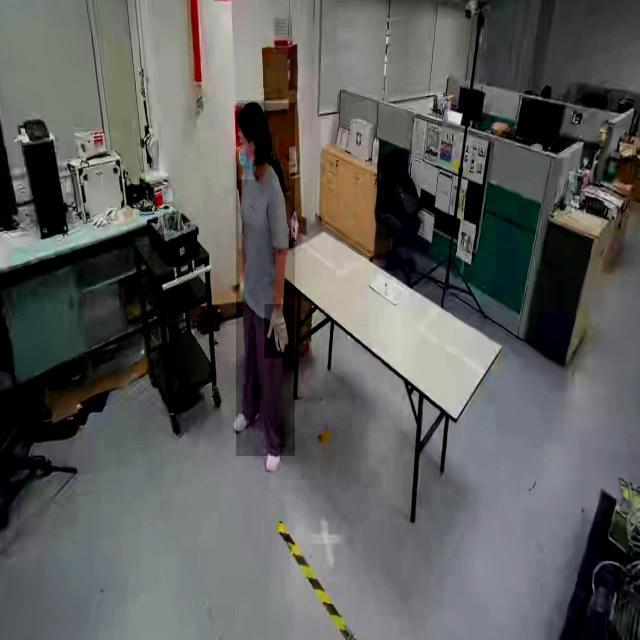face_mask: (236, 132, 256, 180)
hand_glove: (264, 304, 294, 359)
head_nohelmet: (237, 100, 266, 124)
person: (236, 103, 296, 457)
